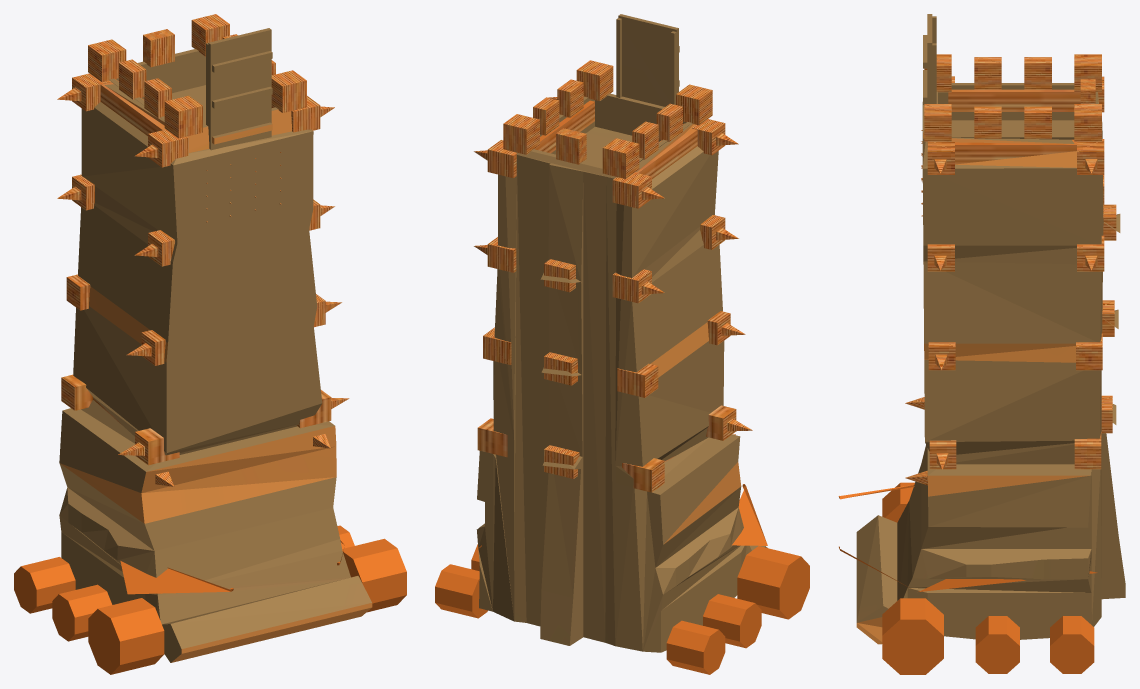
Rendered from ae_siege_tower_open_large_bronze_lod1.glb.
The picture shows the model from 3 angles, left to right: view 1: azimuth 30°, elevation 25°; view 2: azimuth 150°, elevation 25°; view 3: azimuth 270°, elevation 25°; orthographic projection. The views are drawn at different scales.
Visible parts, largest first — view 1: siege_tower_open_large, drawbridge; view 2: siege_tower_open_large, drawbridge; view 3: siege_tower_open_large, drawbridge.
Boxes of the visible parts, x1,y1,x2,y2 form: siege_tower_open_large: [14, 14, 406, 674]; drawbridge: [206, 28, 272, 150]; siege_tower_open_large: [435, 60, 809, 674]; drawbridge: [616, 14, 679, 106]; siege_tower_open_large: [838, 54, 1125, 674]; drawbridge: [923, 14, 936, 147].
Size of the model in its own units: 67.27 by 133 by 59.65.
Materials: 4 (3 with a texture image).
